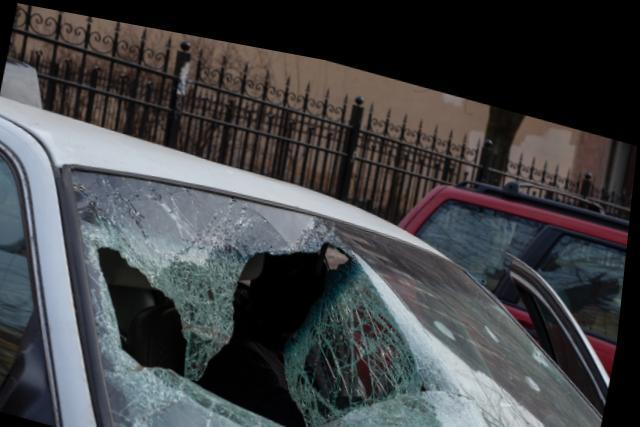glass shatter: (75, 164, 609, 427)
